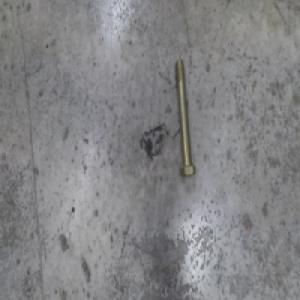Bolt: (175, 58, 196, 176)
